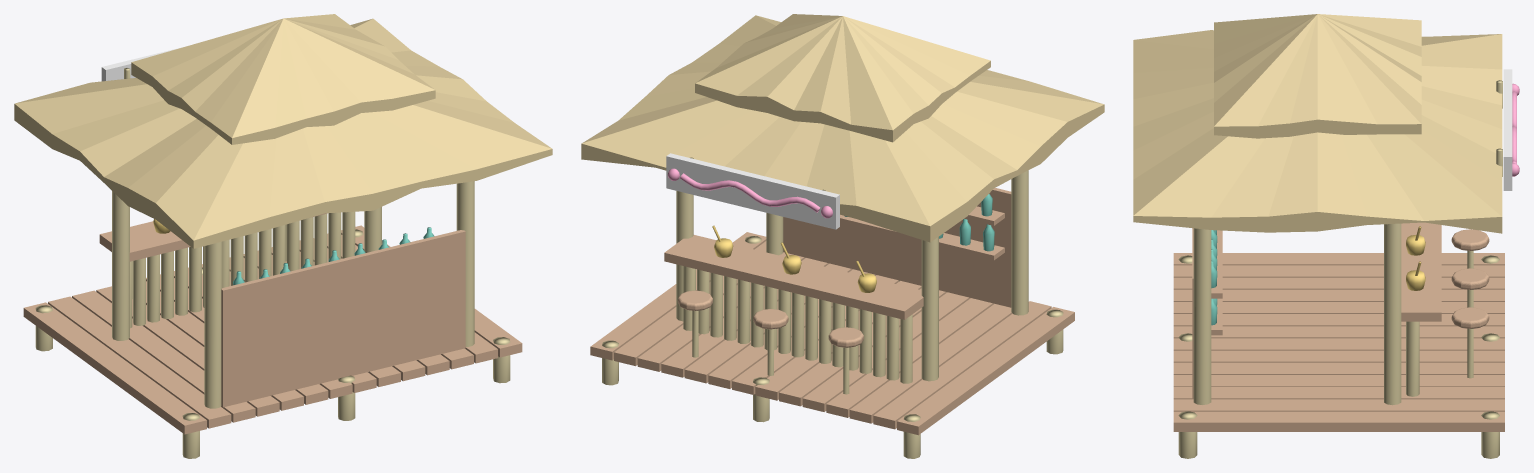
File: BumperTikiBar.glb
3 renders of one model, left to right at view 1: azimuth 30°, elevation 25°; view 2: azimuth 150°, elevation 25°; view 3: azimuth 270°, elevation 25°, orthographic. The views are drawn at different scales.
Parts seen in each view (by area): view 1: Thatch, Wood, Bamboo, Bottles, Sign; view 2: Thatch, Wood, Bamboo, Sign, SignWave, Cups, Bottles; view 3: Thatch, Wood, Bamboo, Sign, Cups, Bottles, SignWave.
Part boxes in pixels (box(x1,y1,x2,y2)): Thatch: box(14, 14, 552, 248); Wood: box(23, 213, 522, 434); Bamboo: box(35, 68, 510, 458); Bottles: box(233, 227, 434, 285); Sign: box(101, 46, 184, 81); Thatch: box(581, 14, 1104, 242); Wood: box(590, 188, 1074, 435); Bamboo: box(602, 157, 1063, 458); Sign: box(666, 153, 839, 229); SignWave: box(667, 168, 832, 218); Cups: box(712, 225, 876, 292); Bottles: box(844, 194, 994, 251); Thatch: box(1133, 14, 1502, 233); Wood: box(1173, 222, 1504, 431); Bamboo: box(1178, 80, 1502, 458); Sign: box(1503, 69, 1512, 190); Cups: box(1406, 226, 1425, 290); Bottles: box(1211, 230, 1217, 325); SignWave: box(1512, 83, 1519, 176).
Bounding box in the file's own units: 14.8 × 13.9 × 13.41.
